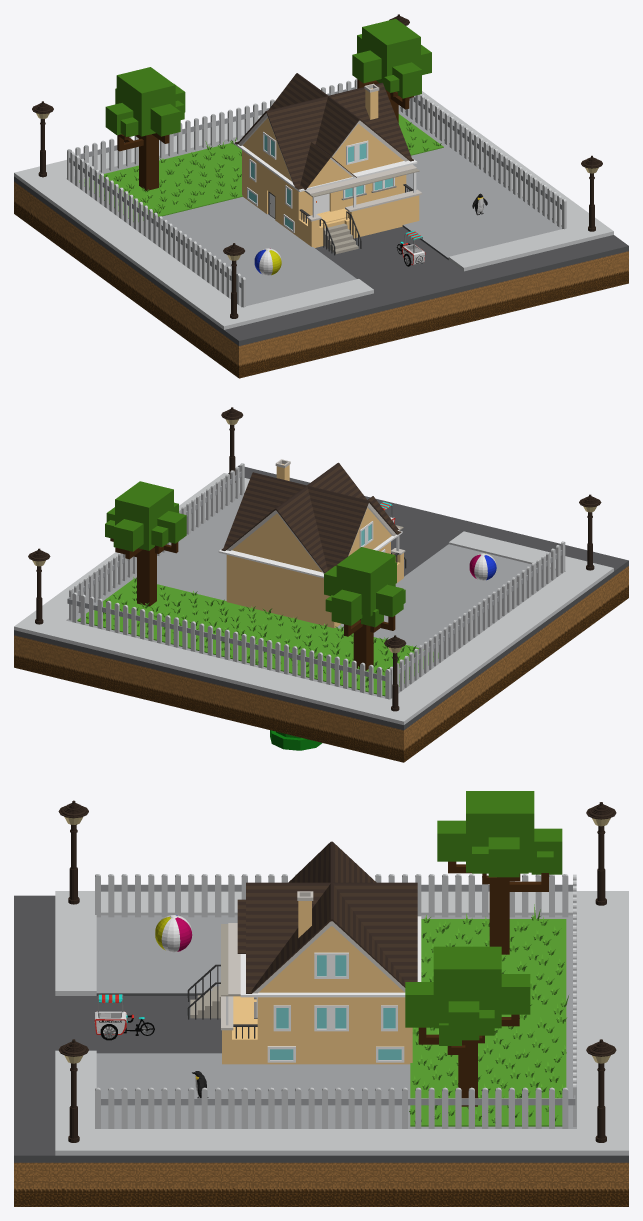
3 renders of one model, top to bottom at view 1: azimuth 30°, elevation 25°; view 2: azimuth 150°, elevation 25°; view 3: azimuth 270°, elevation 25°, orthographic. The views are drawn at different scales.
Parts seen in each view (by area): view 1: Cube.004, Cube.235, VEHICLES_SNOWBAL_BIKE, OBJRANDOM_BEACHBALL; view 2: Cube.004, Cube.235, UNDERGROUND_PIPES, OBJRANDOM_BEACHBALL; view 3: Cube.004, Cube.235, VEHICLES_SNOWBAL_BIKE, OBJRANDOM_BEACHBALL.
Boxes of the visible parts, x1,y1,x2,y2 form: Cube.004: [14, 14, 628, 378]; Cube.235: [233, 73, 422, 255]; VEHICLES_SNOWBAL_BIKE: [396, 230, 425, 266]; OBJRANDOM_BEACHBALL: [254, 248, 281, 275]; Cube.004: [14, 407, 628, 762]; Cube.235: [218, 459, 406, 627]; UNDERGROUND_PIPES: [270, 730, 322, 750]; OBJRANDOM_BEACHBALL: [469, 553, 496, 580]; Cube.004: [14, 791, 628, 1206]; Cube.235: [187, 841, 421, 1064]; VEHICLES_SNOWBAL_BIKE: [94, 994, 154, 1040]; OBJRANDOM_BEACHBALL: [155, 915, 192, 952].
Bounding box in the file's own units: 4000 × 2184 × 4000.
Materials: 34 (3 with a texture image).
